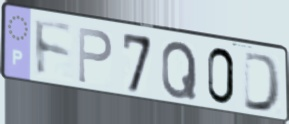0: (206, 46, 237, 108)
7: (121, 30, 153, 95)
D: (242, 49, 283, 115)
F: (32, 17, 75, 80)
P: (76, 25, 114, 86)
Q: (159, 39, 199, 101)
